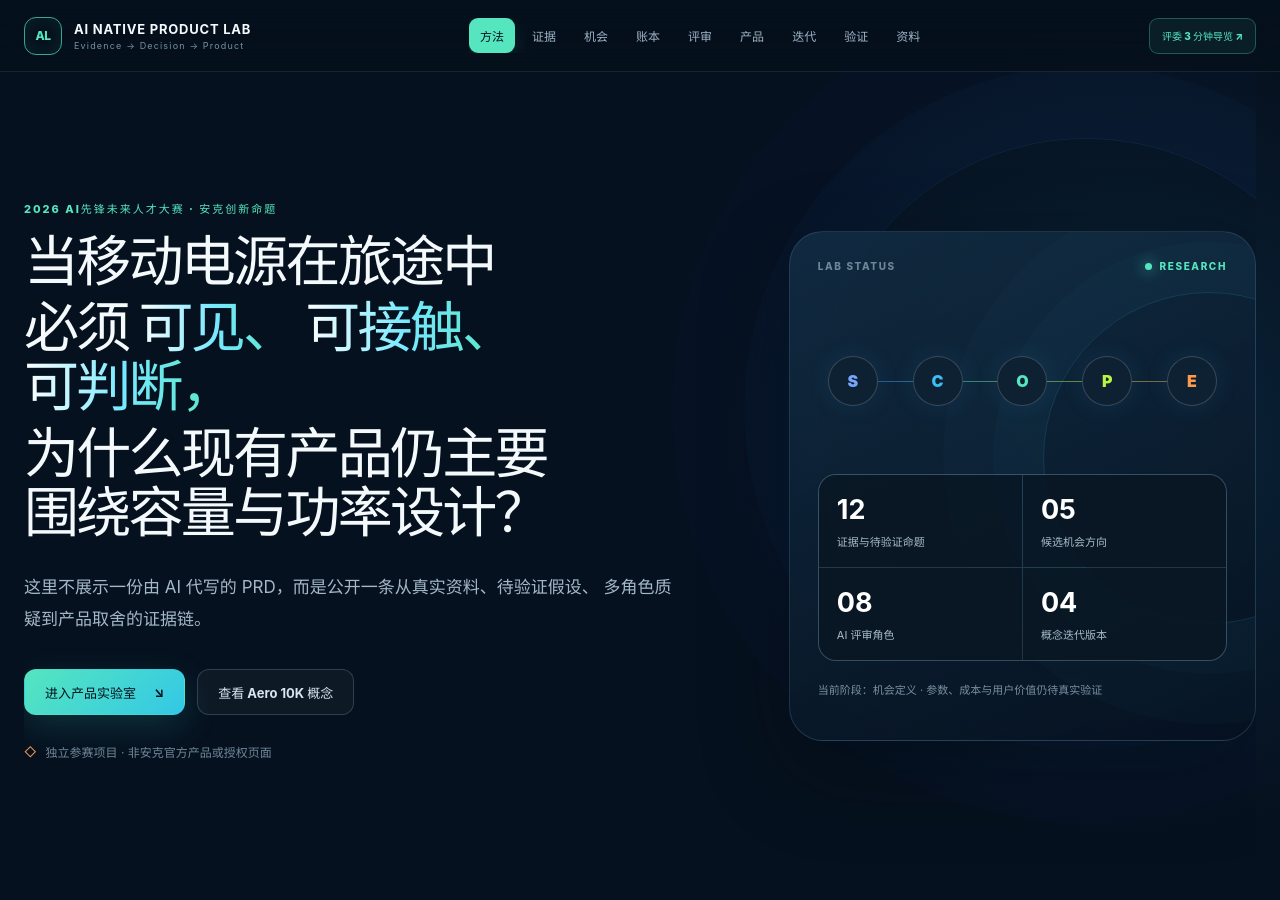
Test: product lab application › guides reviewers through five evidence-first stops
This screenshot has width=1280, height=900.
Click the button "评委 3 分钟导览 ↗". click: {"x": 1202, "y": 36}
box: [1149,18,1256,54]
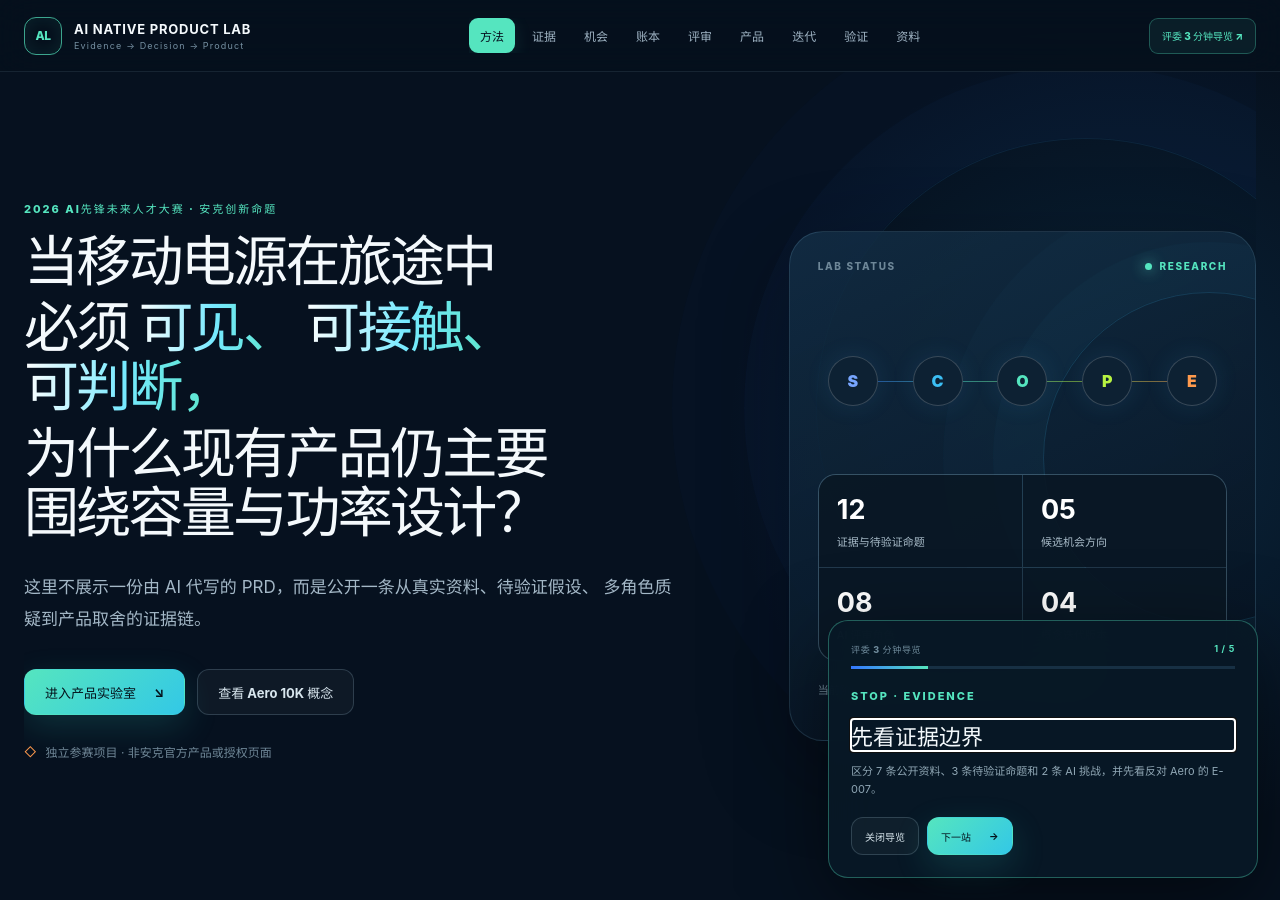
Check: the text "1 / 5" is shown, box [1214,643,1235,656]
Click the button "下一站 →". click: {"x": 970, "y": 836}
box: [927,817,1012,855]
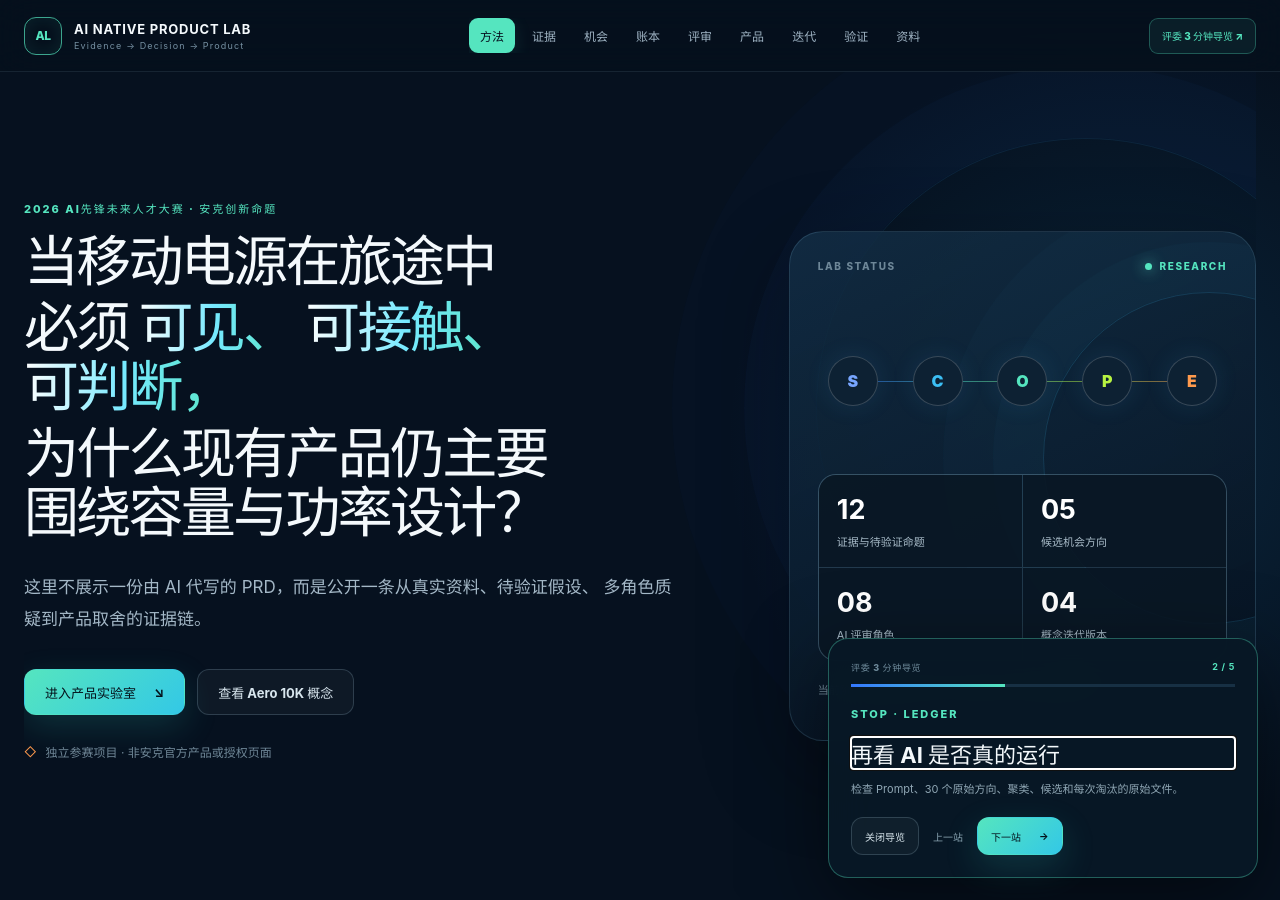
Check: the text "2 / 5" is shown, box [1212,661,1235,674]
Press Escape
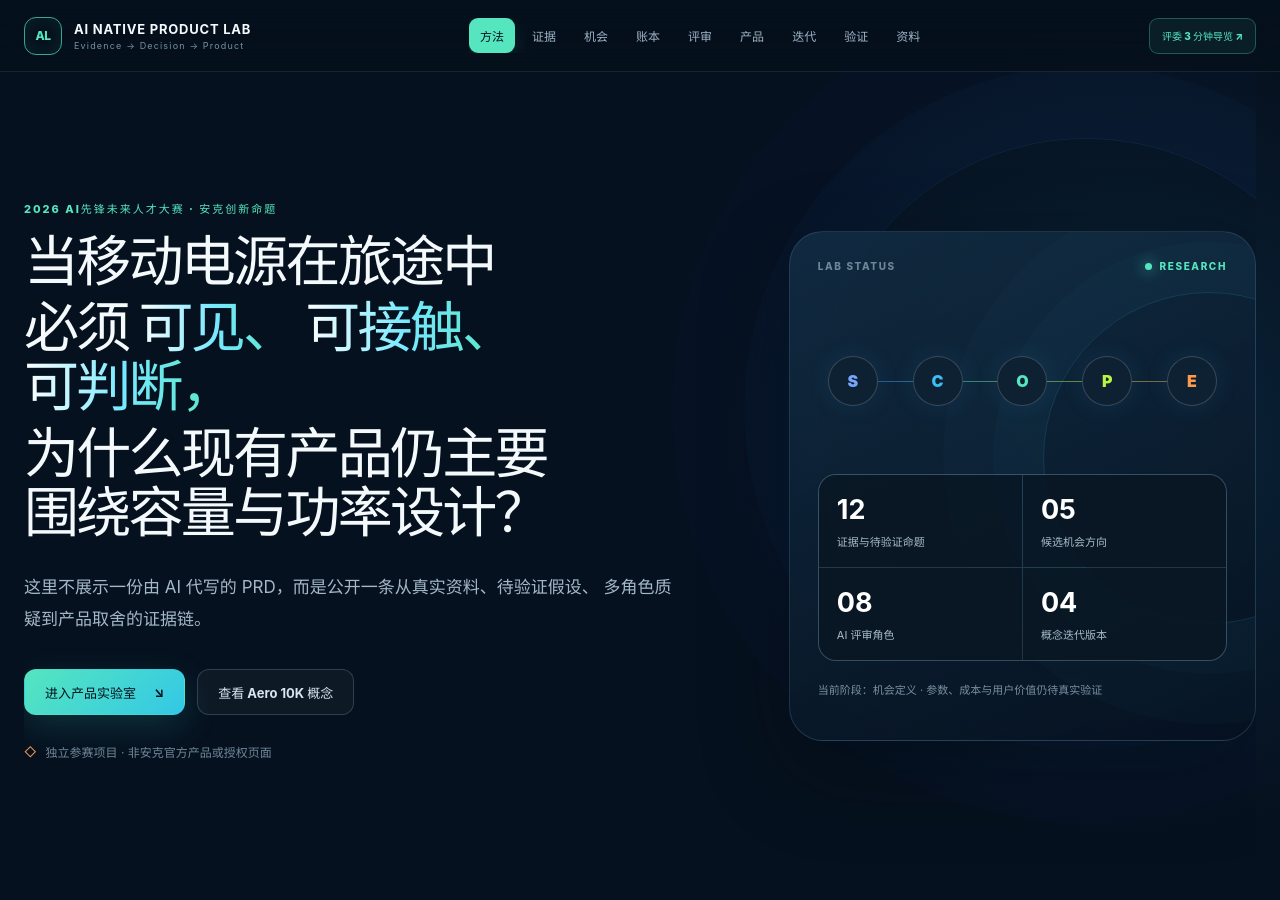
Check: the heading "AI 是否真的运行" is gone
